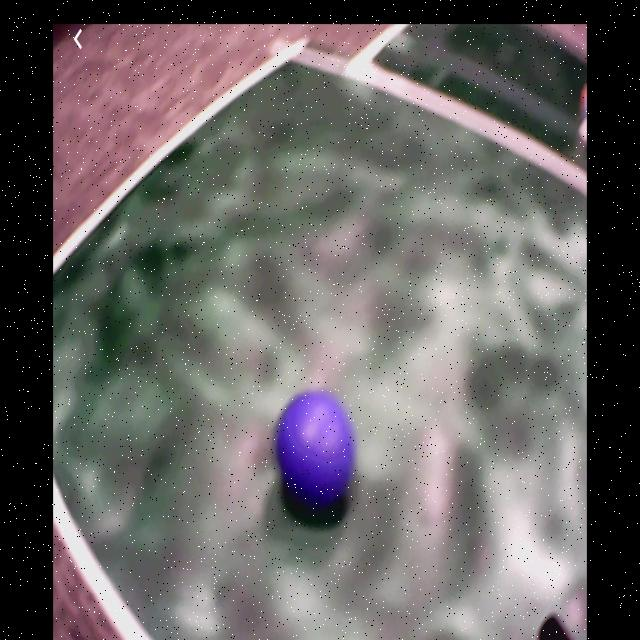ball: (277, 394, 354, 503)
